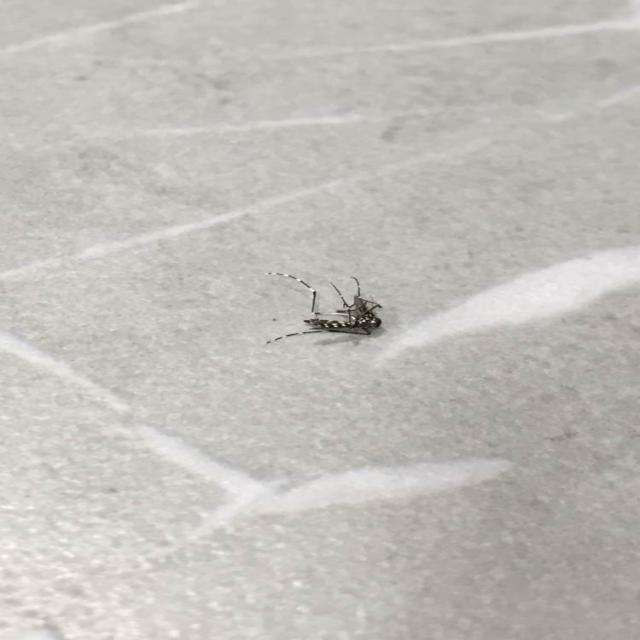albopictus: (250, 266, 388, 348)
